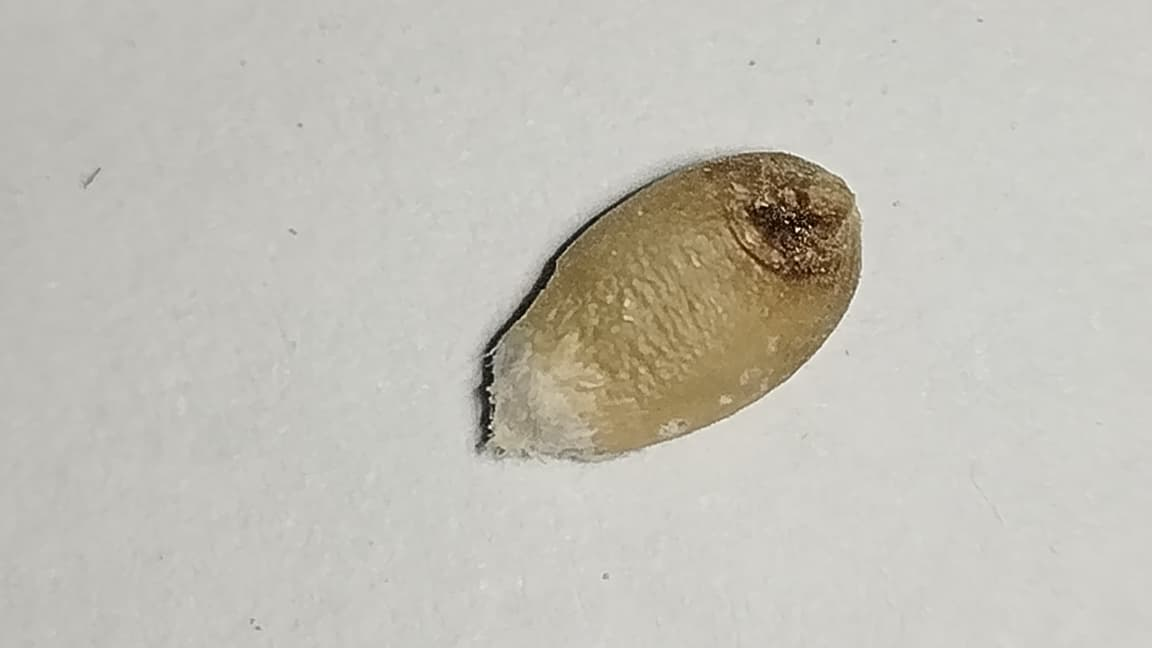damage: (474, 149, 863, 460)
staindamage: (710, 155, 858, 287)
